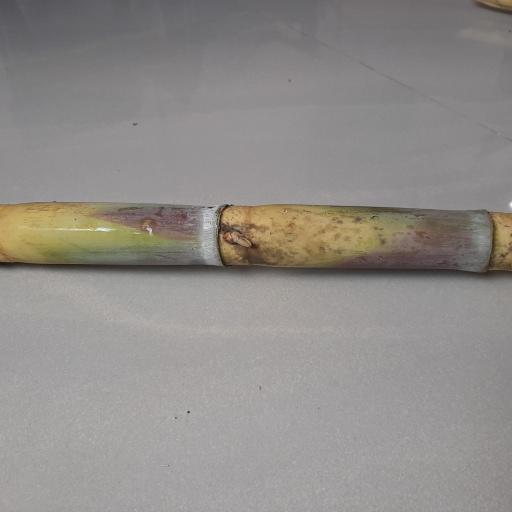Sprouted_Bud: (222, 225, 253, 249)
